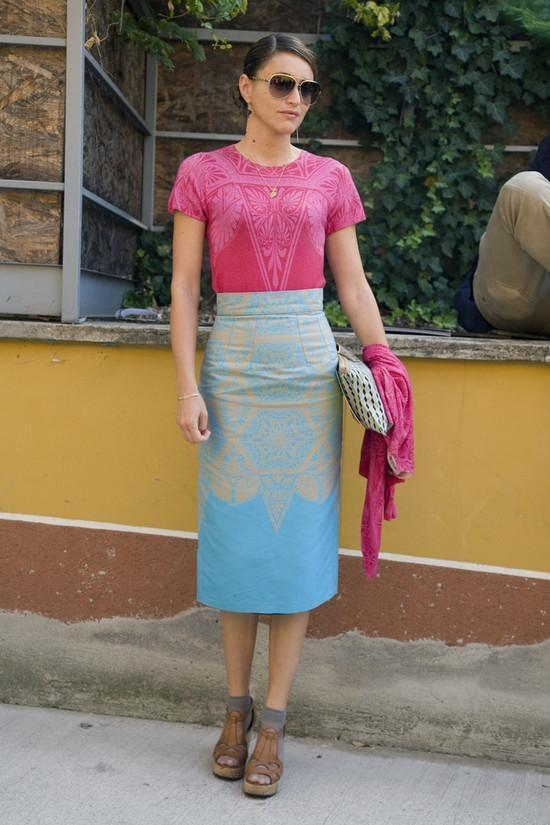Tshirt: (170, 141, 365, 293)
skirt: (195, 288, 344, 614)
